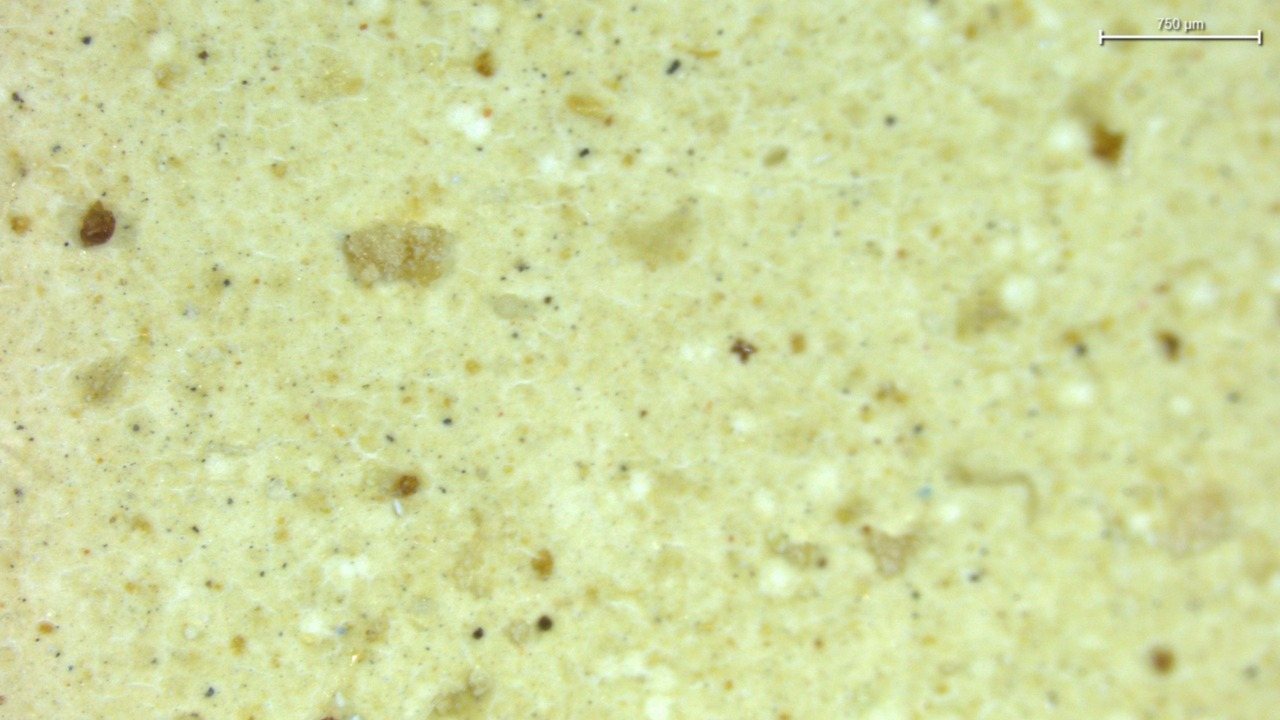microplastic_fragment: (357, 222, 450, 284)
